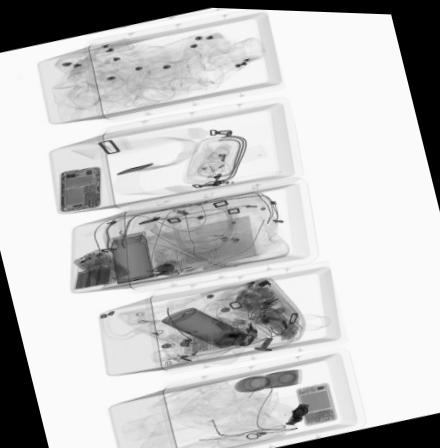Powerbank: (73, 258, 113, 290)
